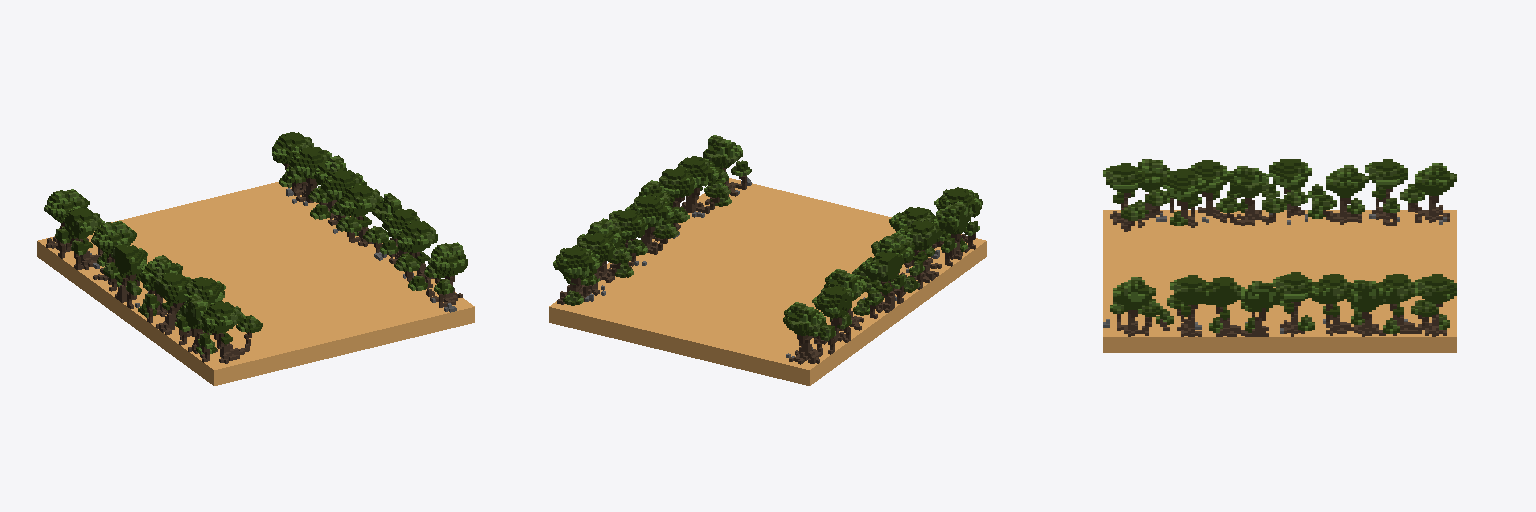
3 renders of one model, left to right at view 1: azimuth 30°, elevation 25°; view 2: azimuth 150°, elevation 25°; view 3: azimuth 270°, elevation 25°, orthographic.
Visible parts, largest first — view 1: object 1; view 2: object 1; view 3: object 1.
Part boxes in pixels (x1,y1,x2,y2): object 1: (37, 132, 474, 385); object 1: (549, 135, 986, 385); object 1: (1103, 159, 1456, 352).
Size of the model in its own units: 8.5 by 2.1 by 10.
Materials: 1 (1 with a texture image).